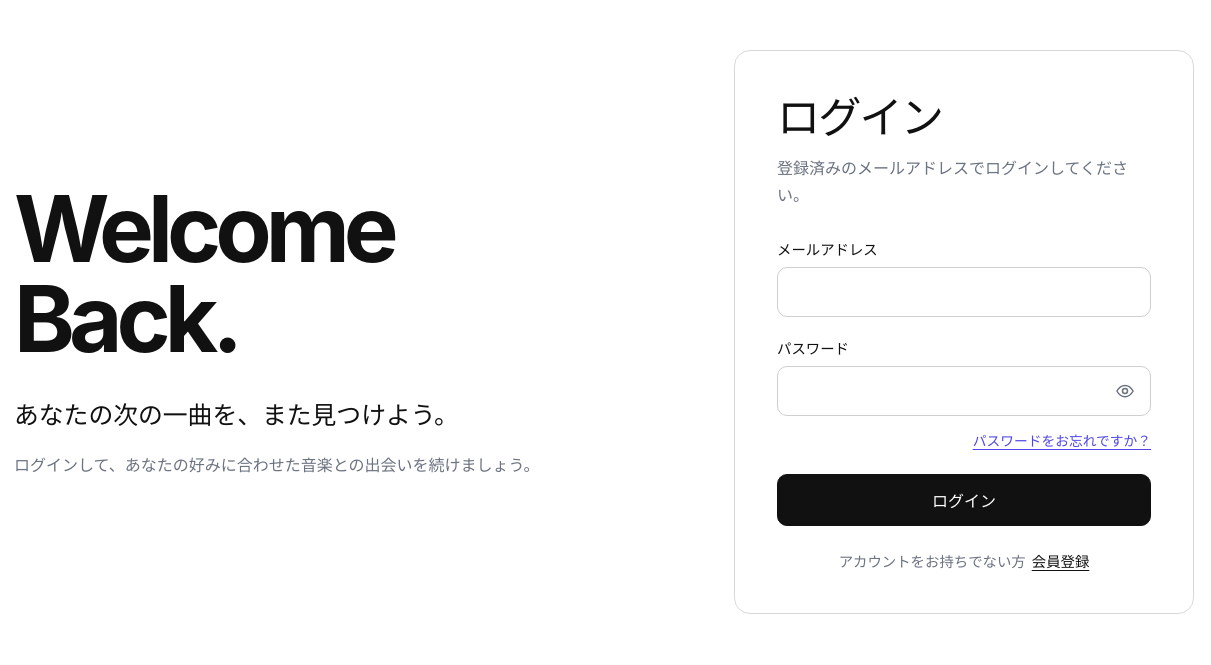
Test: LoginPage › shows API error without exposing the request id
The width and height of the screenshot is (1211, 665).
Type "user@example.com" into the field labelled "メールアドレス" at (964, 292), box x1=777 y1=266 x2=1151 y2=316
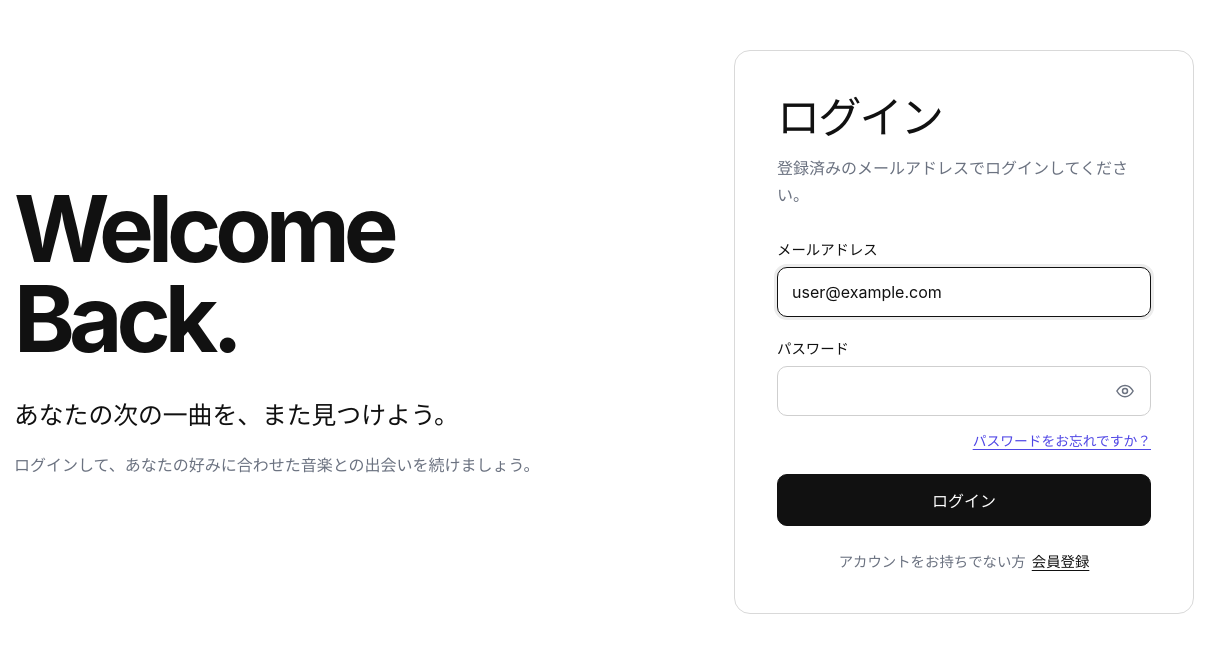
Type "password" into the password field labelled "パスワード" at (964, 390), box x1=777 y1=366 x2=1151 y2=416
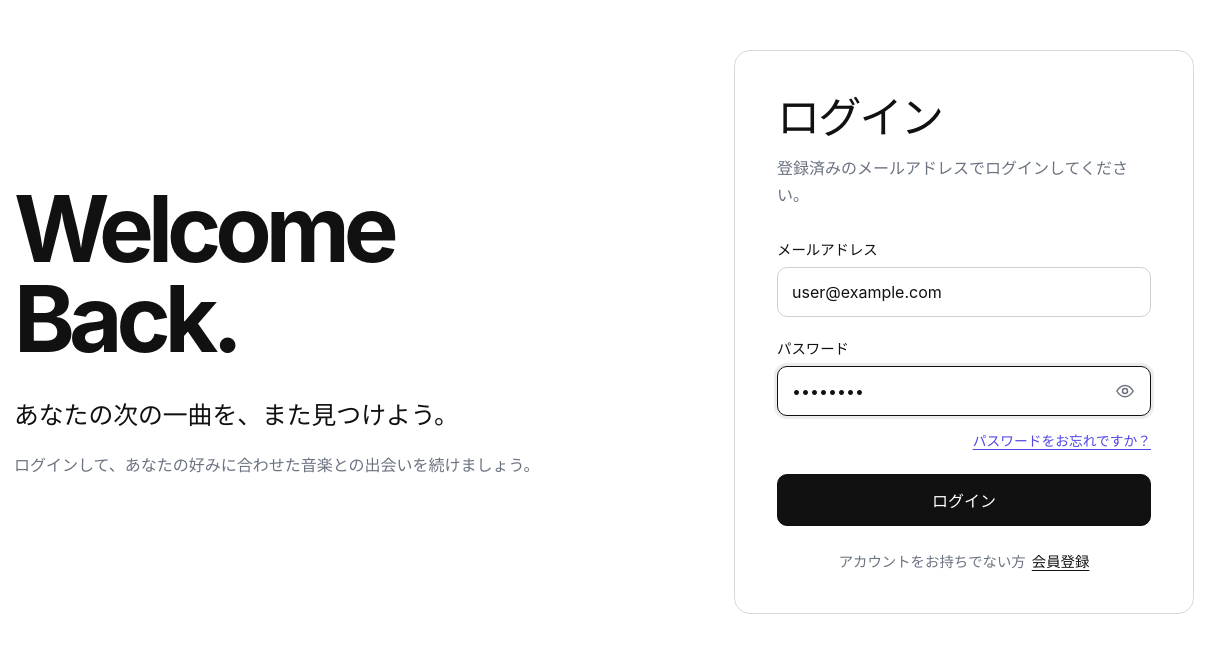
Click the button "ログイン" at (964, 500), box x1=777 y1=474 x2=1151 y2=526
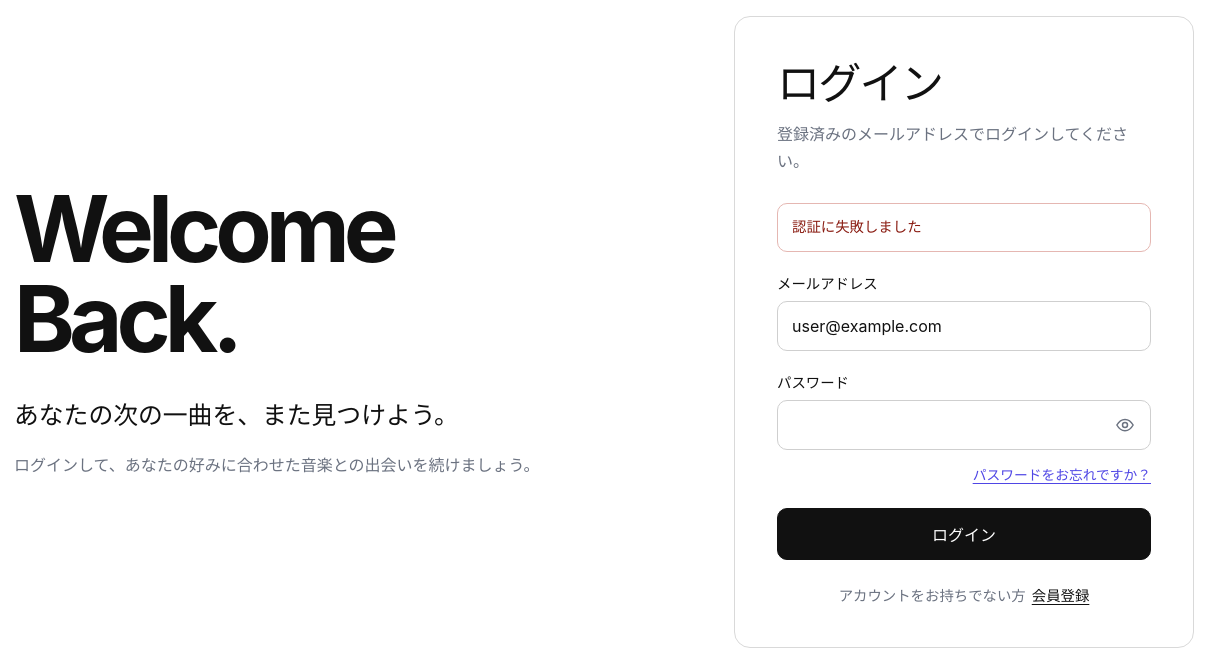
expect the text "認証に失敗しました" is shown: met, box x1=777 y1=203 x2=1151 y2=252
expect the password field labelled "パスワード" is empty: met, box x1=777 y1=400 x2=1151 y2=450
